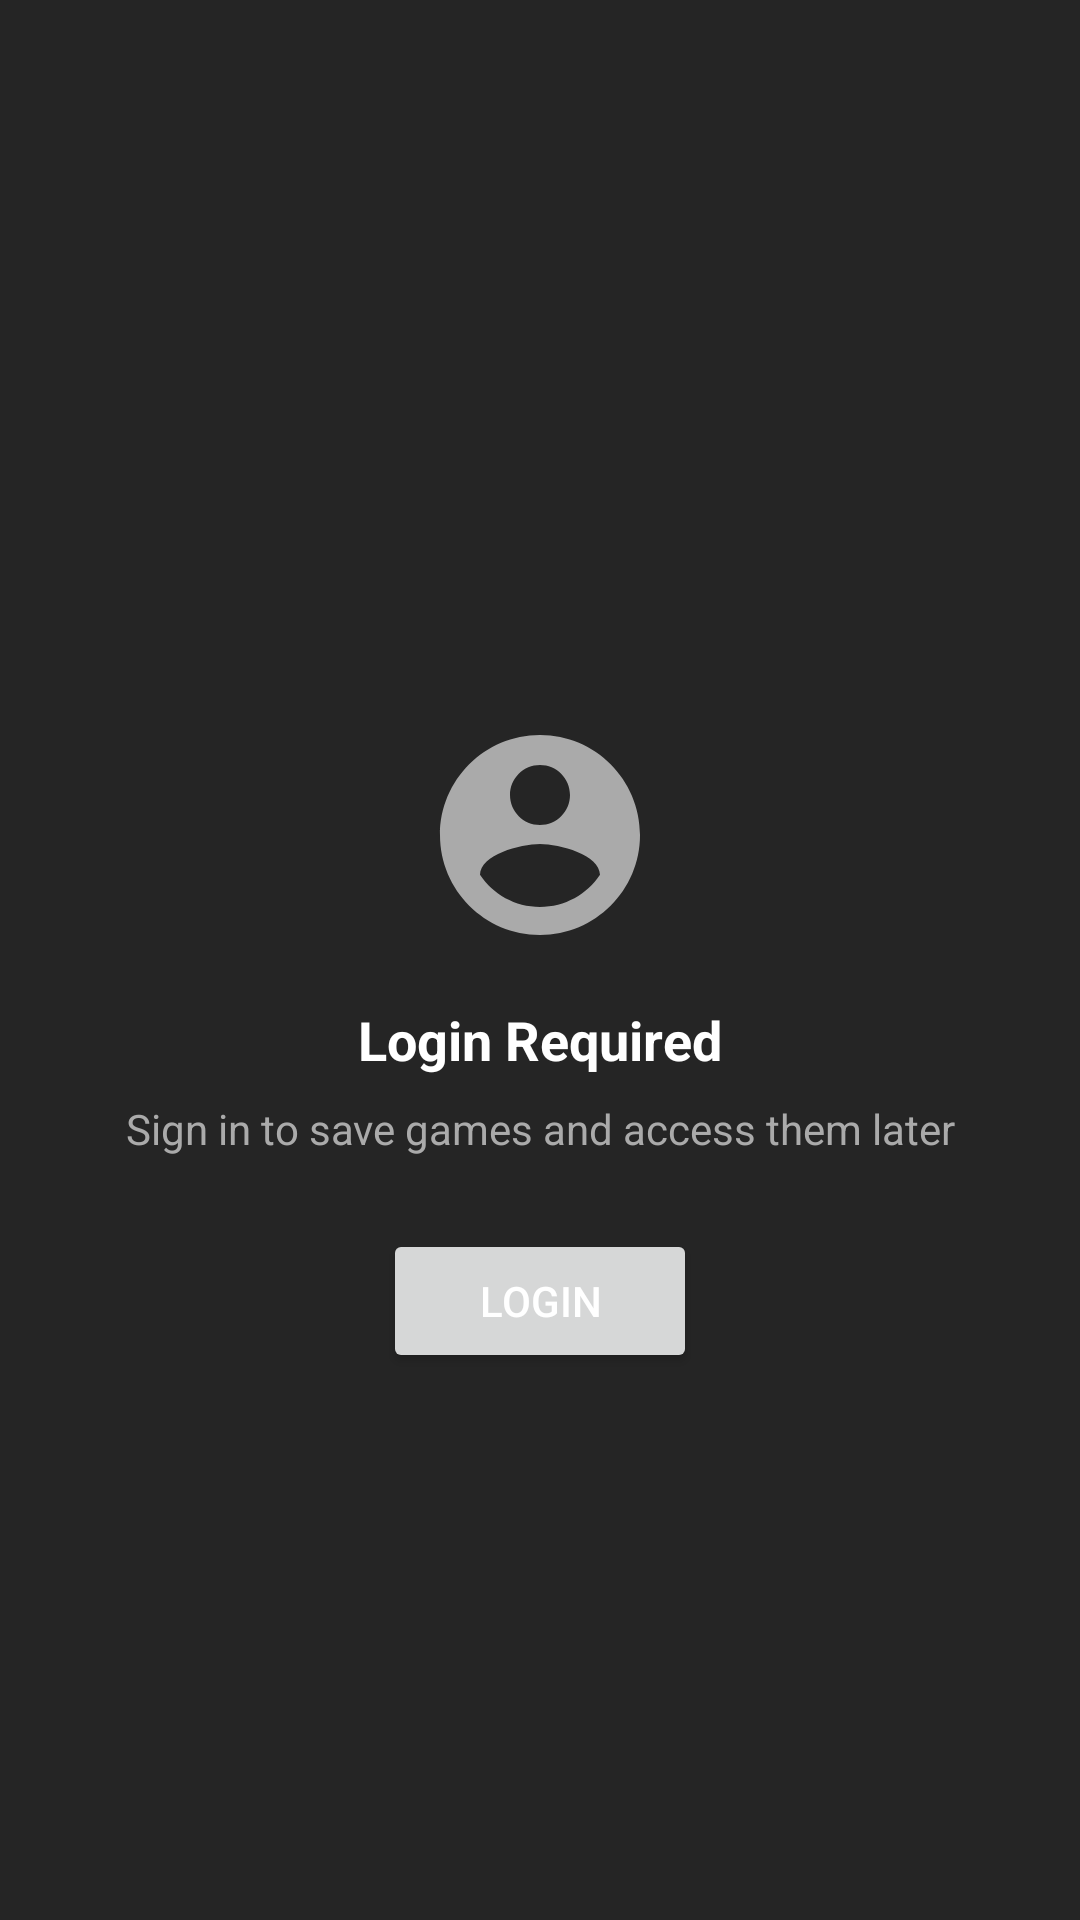

Screen size 1080w x 1920h. Icon name, then its center in pixels as point (x, y):
account circle: point (540, 835)
